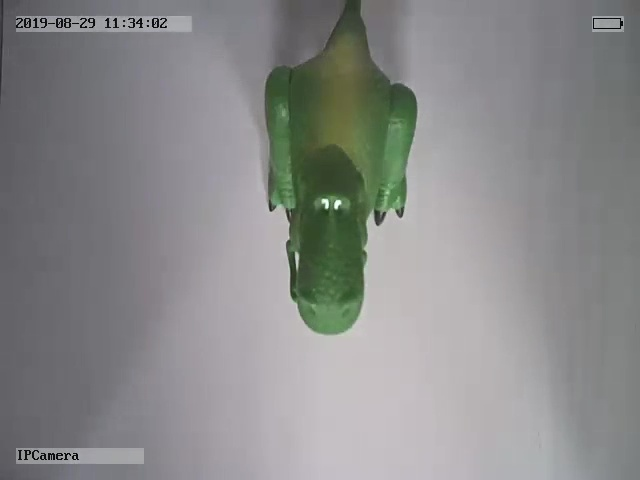rex: (261, 3, 421, 339)
